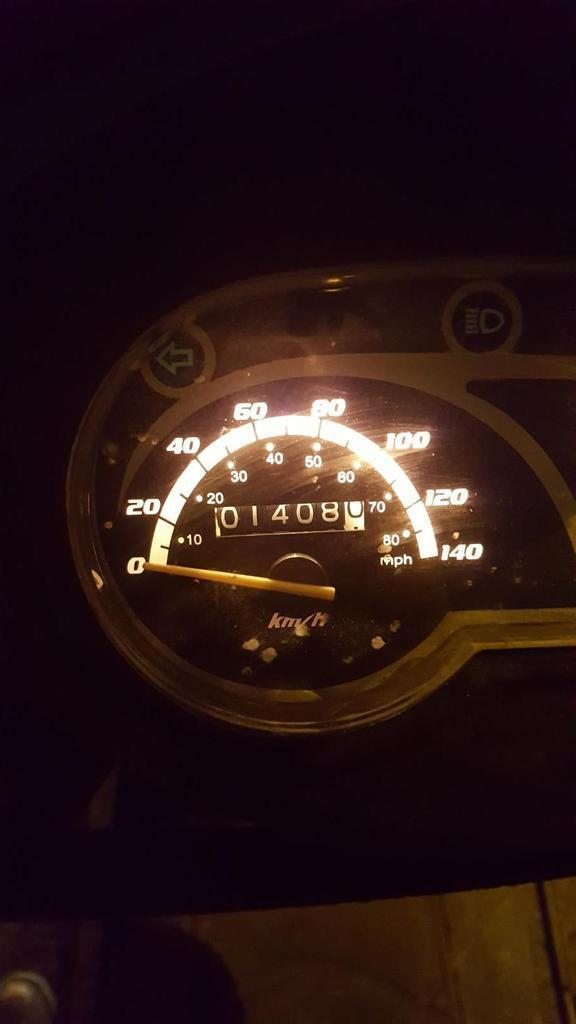0: (294, 501, 315, 527), (219, 505, 241, 528), (346, 499, 365, 519)
1: (249, 502, 261, 528)
4: (270, 503, 290, 527)
8: (320, 501, 340, 526)
odometer: (208, 499, 367, 539)
